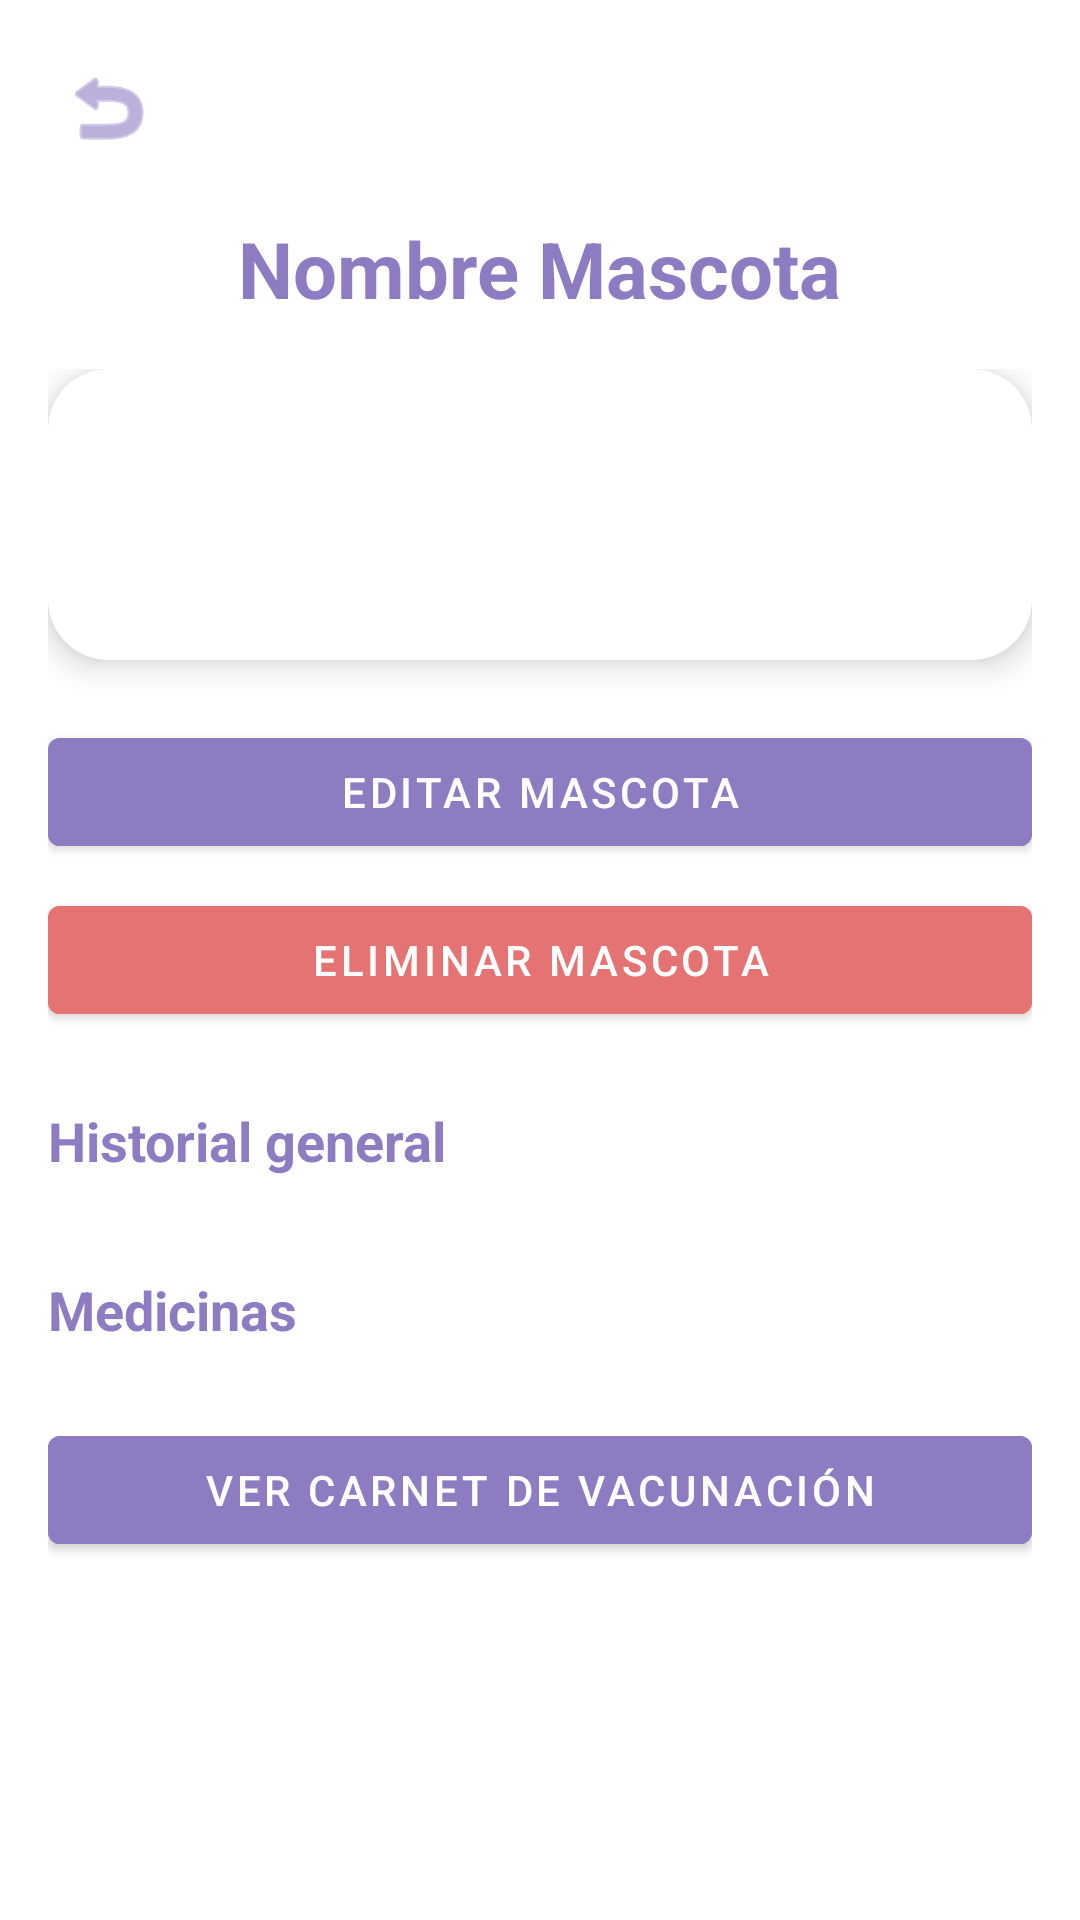

Where icons sit on this 1080px×1920px app screen, as region(x1, y1, x2, y2):
Regresar: region(75, 78, 144, 140)
